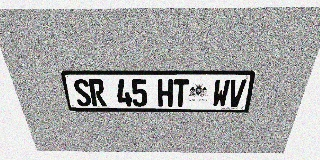4: (115, 79, 133, 106)
5: (131, 79, 147, 106)
H: (158, 79, 173, 107)
R: (88, 79, 107, 106)
S: (72, 79, 92, 106)
T: (173, 79, 189, 107)
V: (227, 79, 247, 107)
W: (211, 79, 230, 107)
